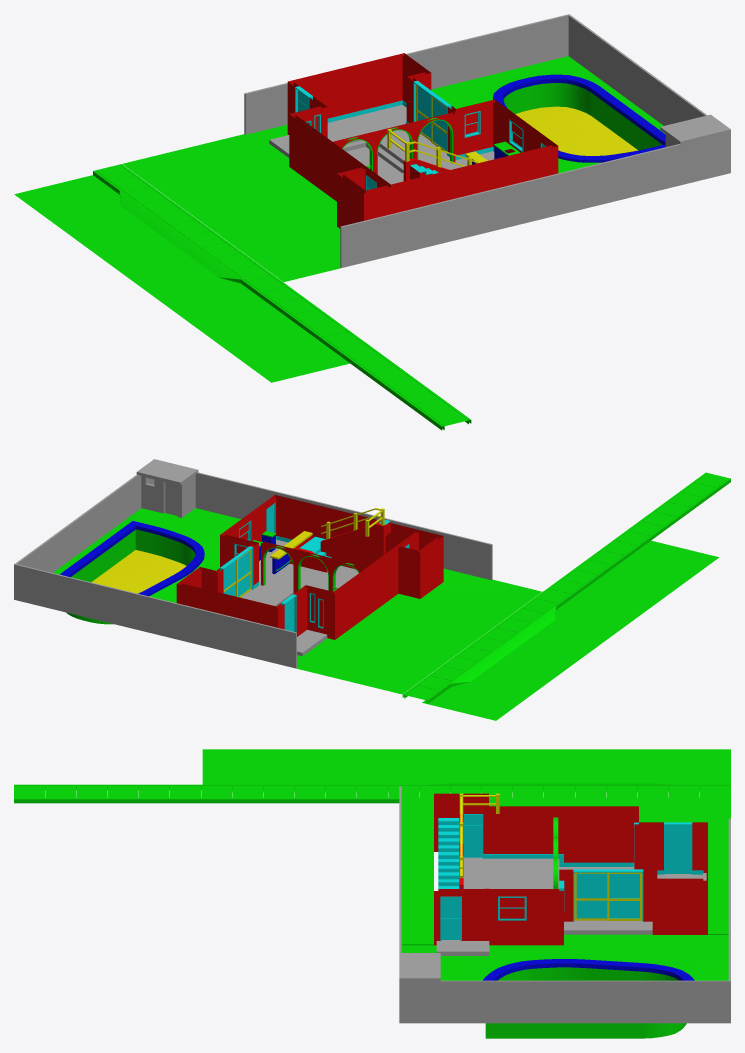
The model's file is estructura-piso1.fbx.
The picture shows the model from 3 angles, top to bottom: view 1: azimuth 30°, elevation 25°; view 2: azimuth 150°, elevation 25°; view 3: azimuth 270°, elevation 25°; orthographic projection. The views are drawn at different scales.
Parts seen in each view (by area): view 1: paredes_exteras, pared_principal, pista, piso_exterior, veredas, borde_piscina, piso_casa, piso_piscina, arcos, gradas, puerta_sala_1; view 2: paredes_exteras, pared_principal, pista, piso_exterior, veredas, borde_piscina, gradas, piso_piscina, piso_casa, arcos, puerta_sala_1; view 3: pared_principal, pista, paredes_exteras, veredas, piso_exterior, piso_piscina, borde_piscina, piso_casa, gradas, puerta_sala_2, puerta_sala_1, puerta_principal (+2 smaller).
Boxes of the visible parts, x1,y1,x2,y2 form: paredes_exteras: [244, 14, 730, 267]; pared_principal: [287, 53, 558, 228]; pista: [14, 175, 349, 382]; piso_exterior: [122, 124, 340, 281]; veredas: [93, 164, 471, 430]; borde_piscina: [493, 74, 665, 162]; piso_casa: [269, 105, 494, 184]; piso_piscina: [431, 56, 665, 173]; arcos: [333, 112, 455, 174]; gradas: [387, 129, 487, 181]; puerta_sala_1: [431, 96, 446, 153]; paredes_exteras: [14, 459, 492, 668]; pared_principal: [176, 495, 443, 639]; pista: [422, 540, 718, 720]; piso_exterior: [296, 568, 542, 694]; veredas: [402, 472, 730, 703]; borde_piscina: [60, 521, 204, 624]; gradas: [270, 508, 390, 574]; piso_piscina: [53, 508, 240, 602]; piso_casa: [241, 539, 358, 656]; arcos: [261, 541, 366, 593]; puerta_sala_1: [236, 549, 251, 597]; pared_principal: [434, 793, 707, 945]; pista: [202, 749, 730, 791]; paredes_exteras: [399, 786, 730, 1023]; veredas: [14, 783, 730, 803]; piso_exterior: [401, 799, 730, 945]; piso_piscina: [401, 934, 728, 980]; borde_piscina: [483, 959, 694, 1038]; piso_casa: [436, 857, 706, 955]; gradas: [438, 793, 499, 888]; puerta_sala_2: [607, 872, 642, 920]; puerta_sala_1: [574, 872, 607, 920]; puerta_principal: [665, 825, 691, 873].
Size of the model in its own units: 2856 by 515 by 3113.
